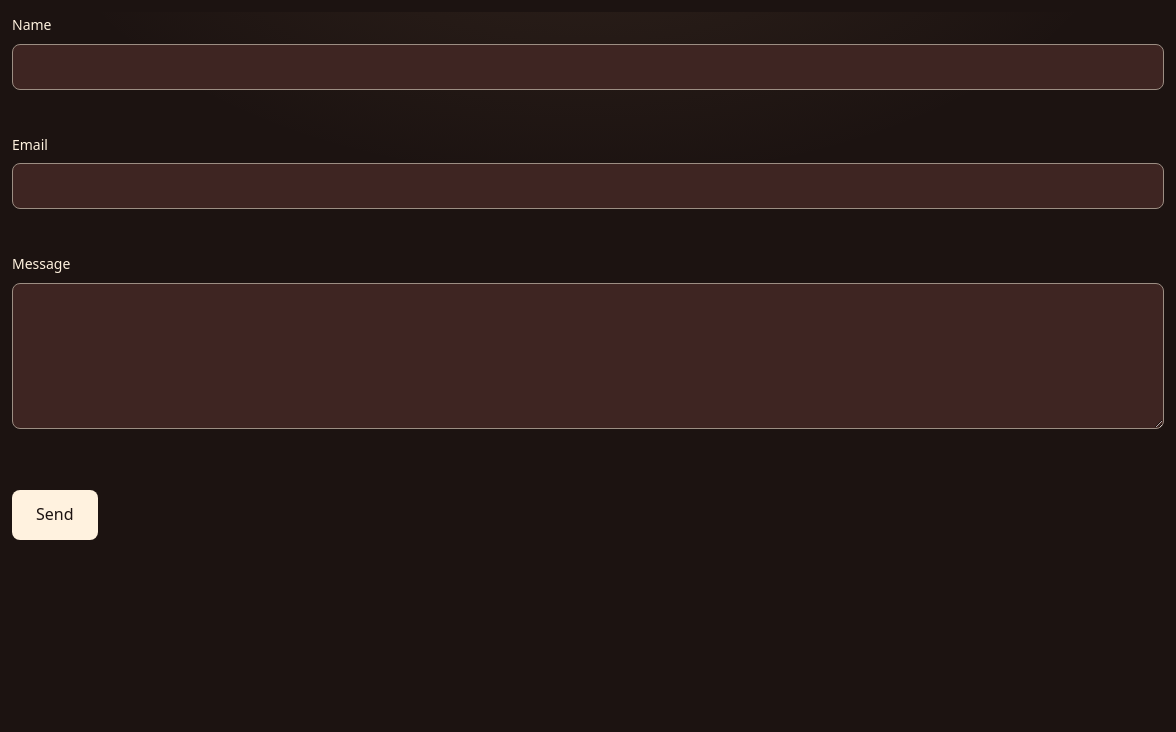
Test: ContactForm › reports a network failure rather than appearing to succeed
The width and height of the screenshot is (1176, 732).
Type "Zeyad" into the field labelled "Name" at (588, 67), box [12, 44, 1164, 90]
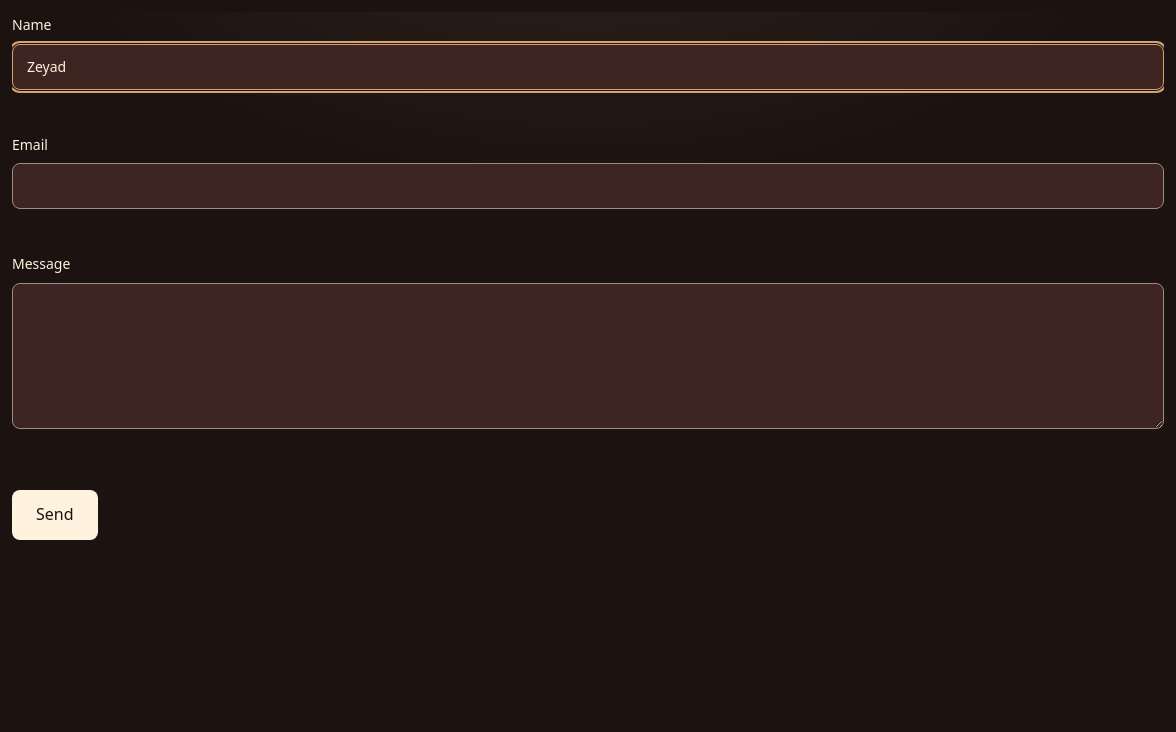
Type "a@b.co" into the field labelled "Email" at (588, 186), box [12, 163, 1164, 209]
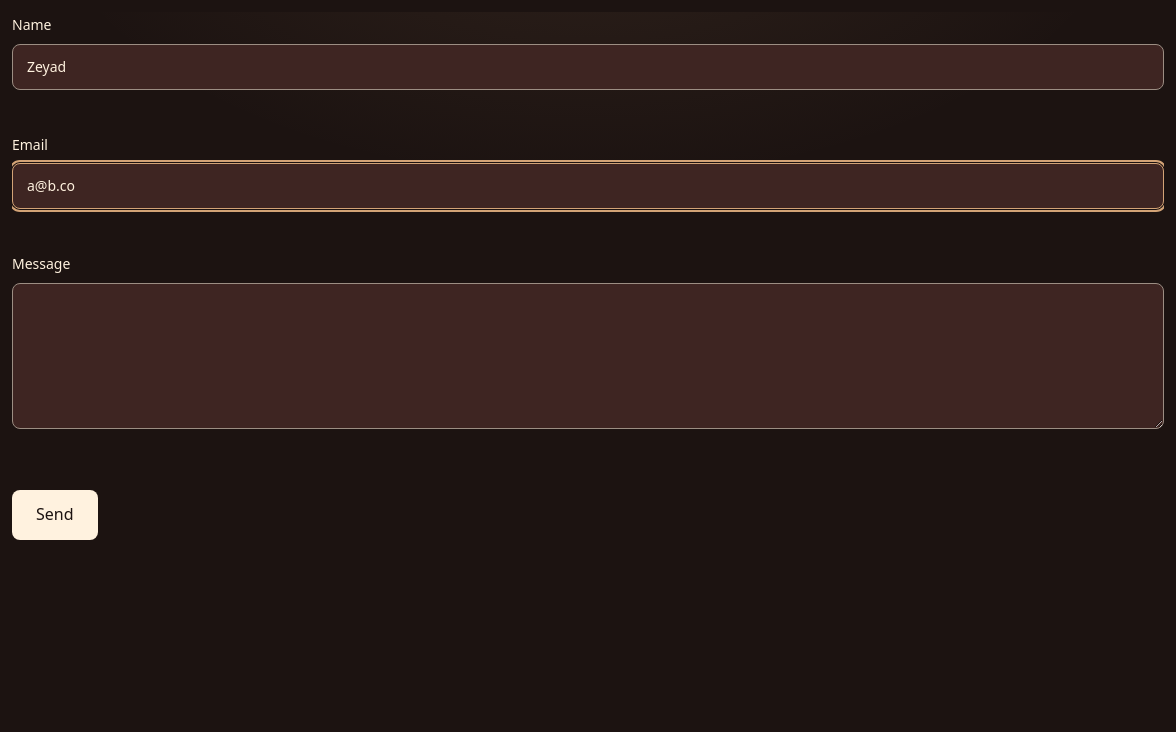
Type "Hello there" into the text box labelled "Message" at (588, 356), box [12, 283, 1164, 429]
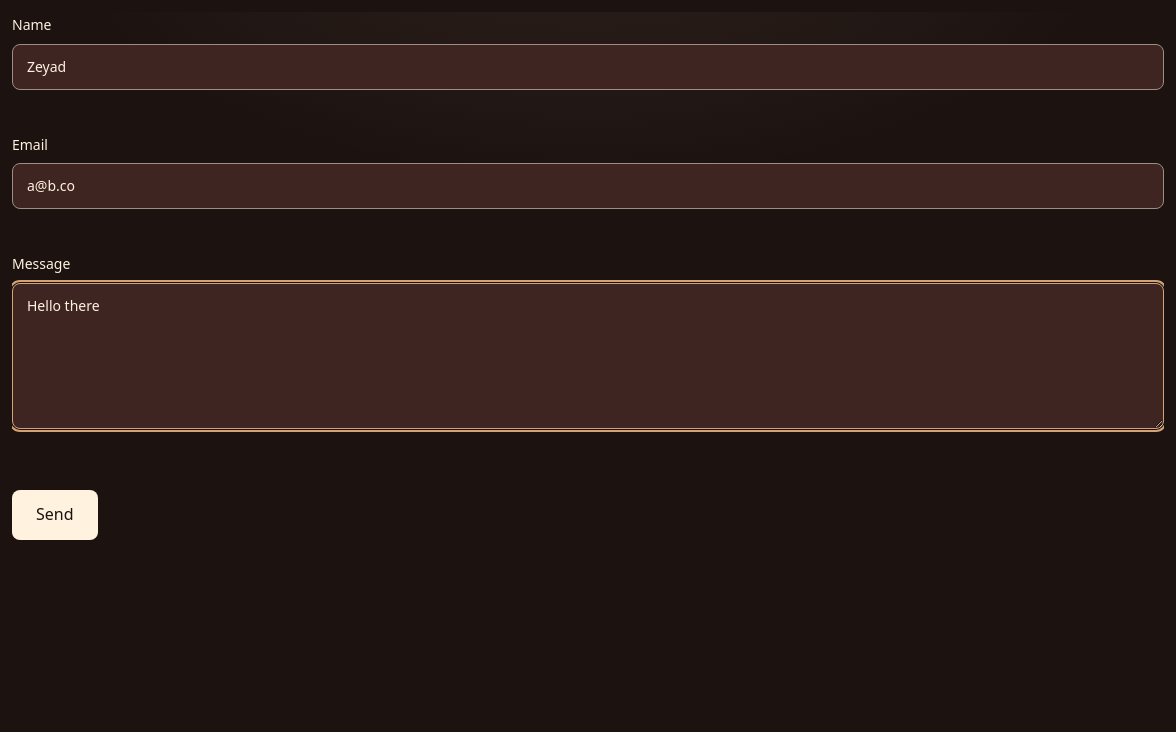
Click the button "Send" at (55, 515), box [12, 490, 98, 540]
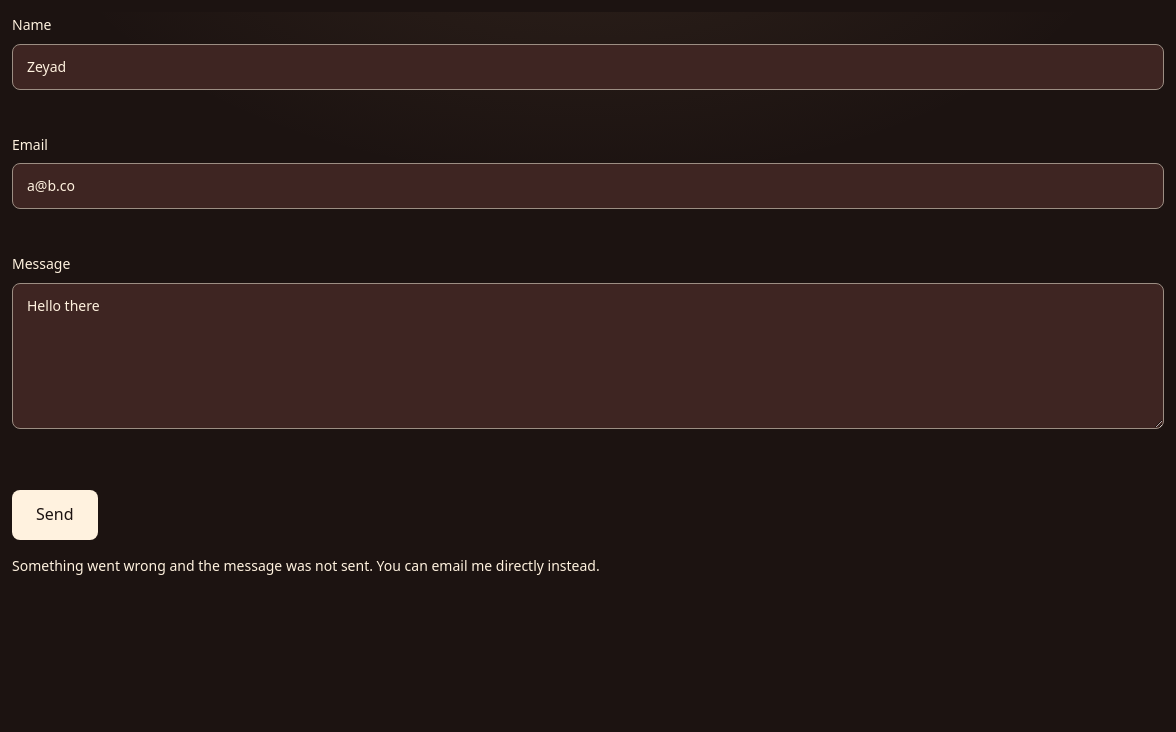
Result: the message shows "Something went wrong" at [12, 556, 600, 575]
